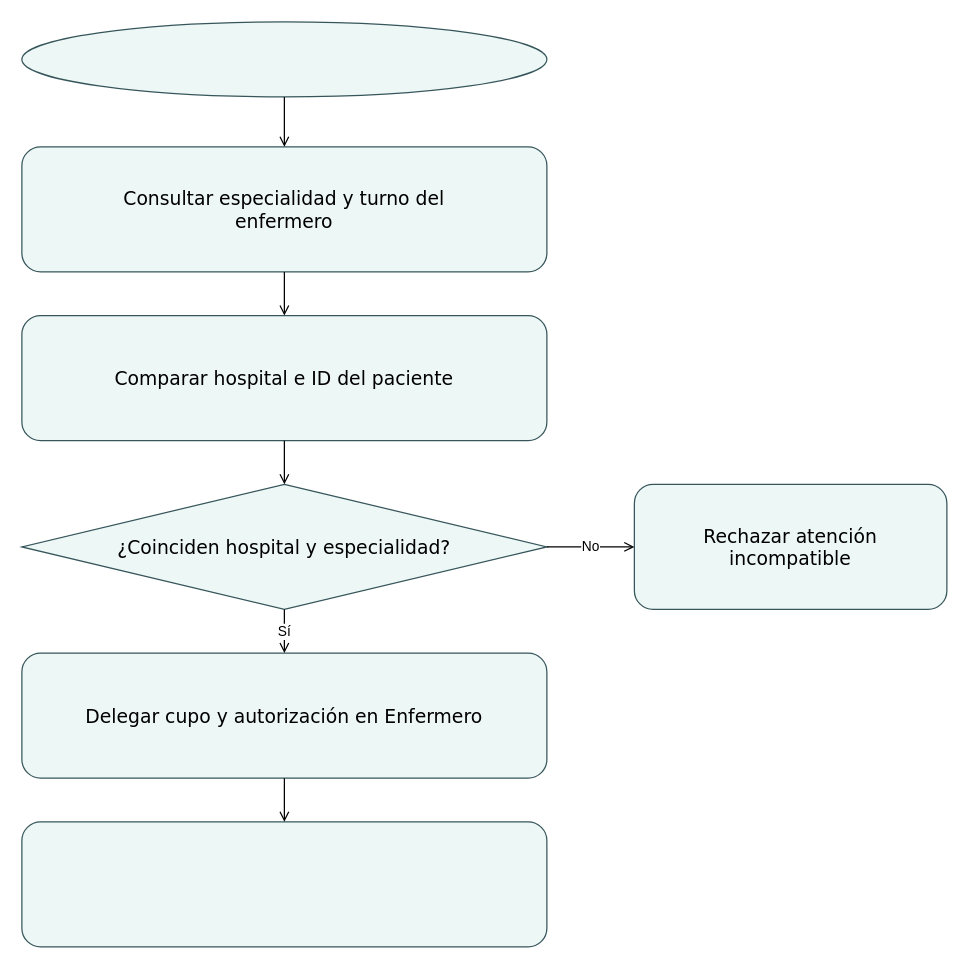
Some shapes in this 969 by 969 pixel diagram are drawn without their labels. Here are the shapes that lost their labels. From the top down, the centre of each, then its label:
At [284,59]: "Validar atención del área".
At [284,884]: "Recibir paciente compatible, incluida medicina general".
